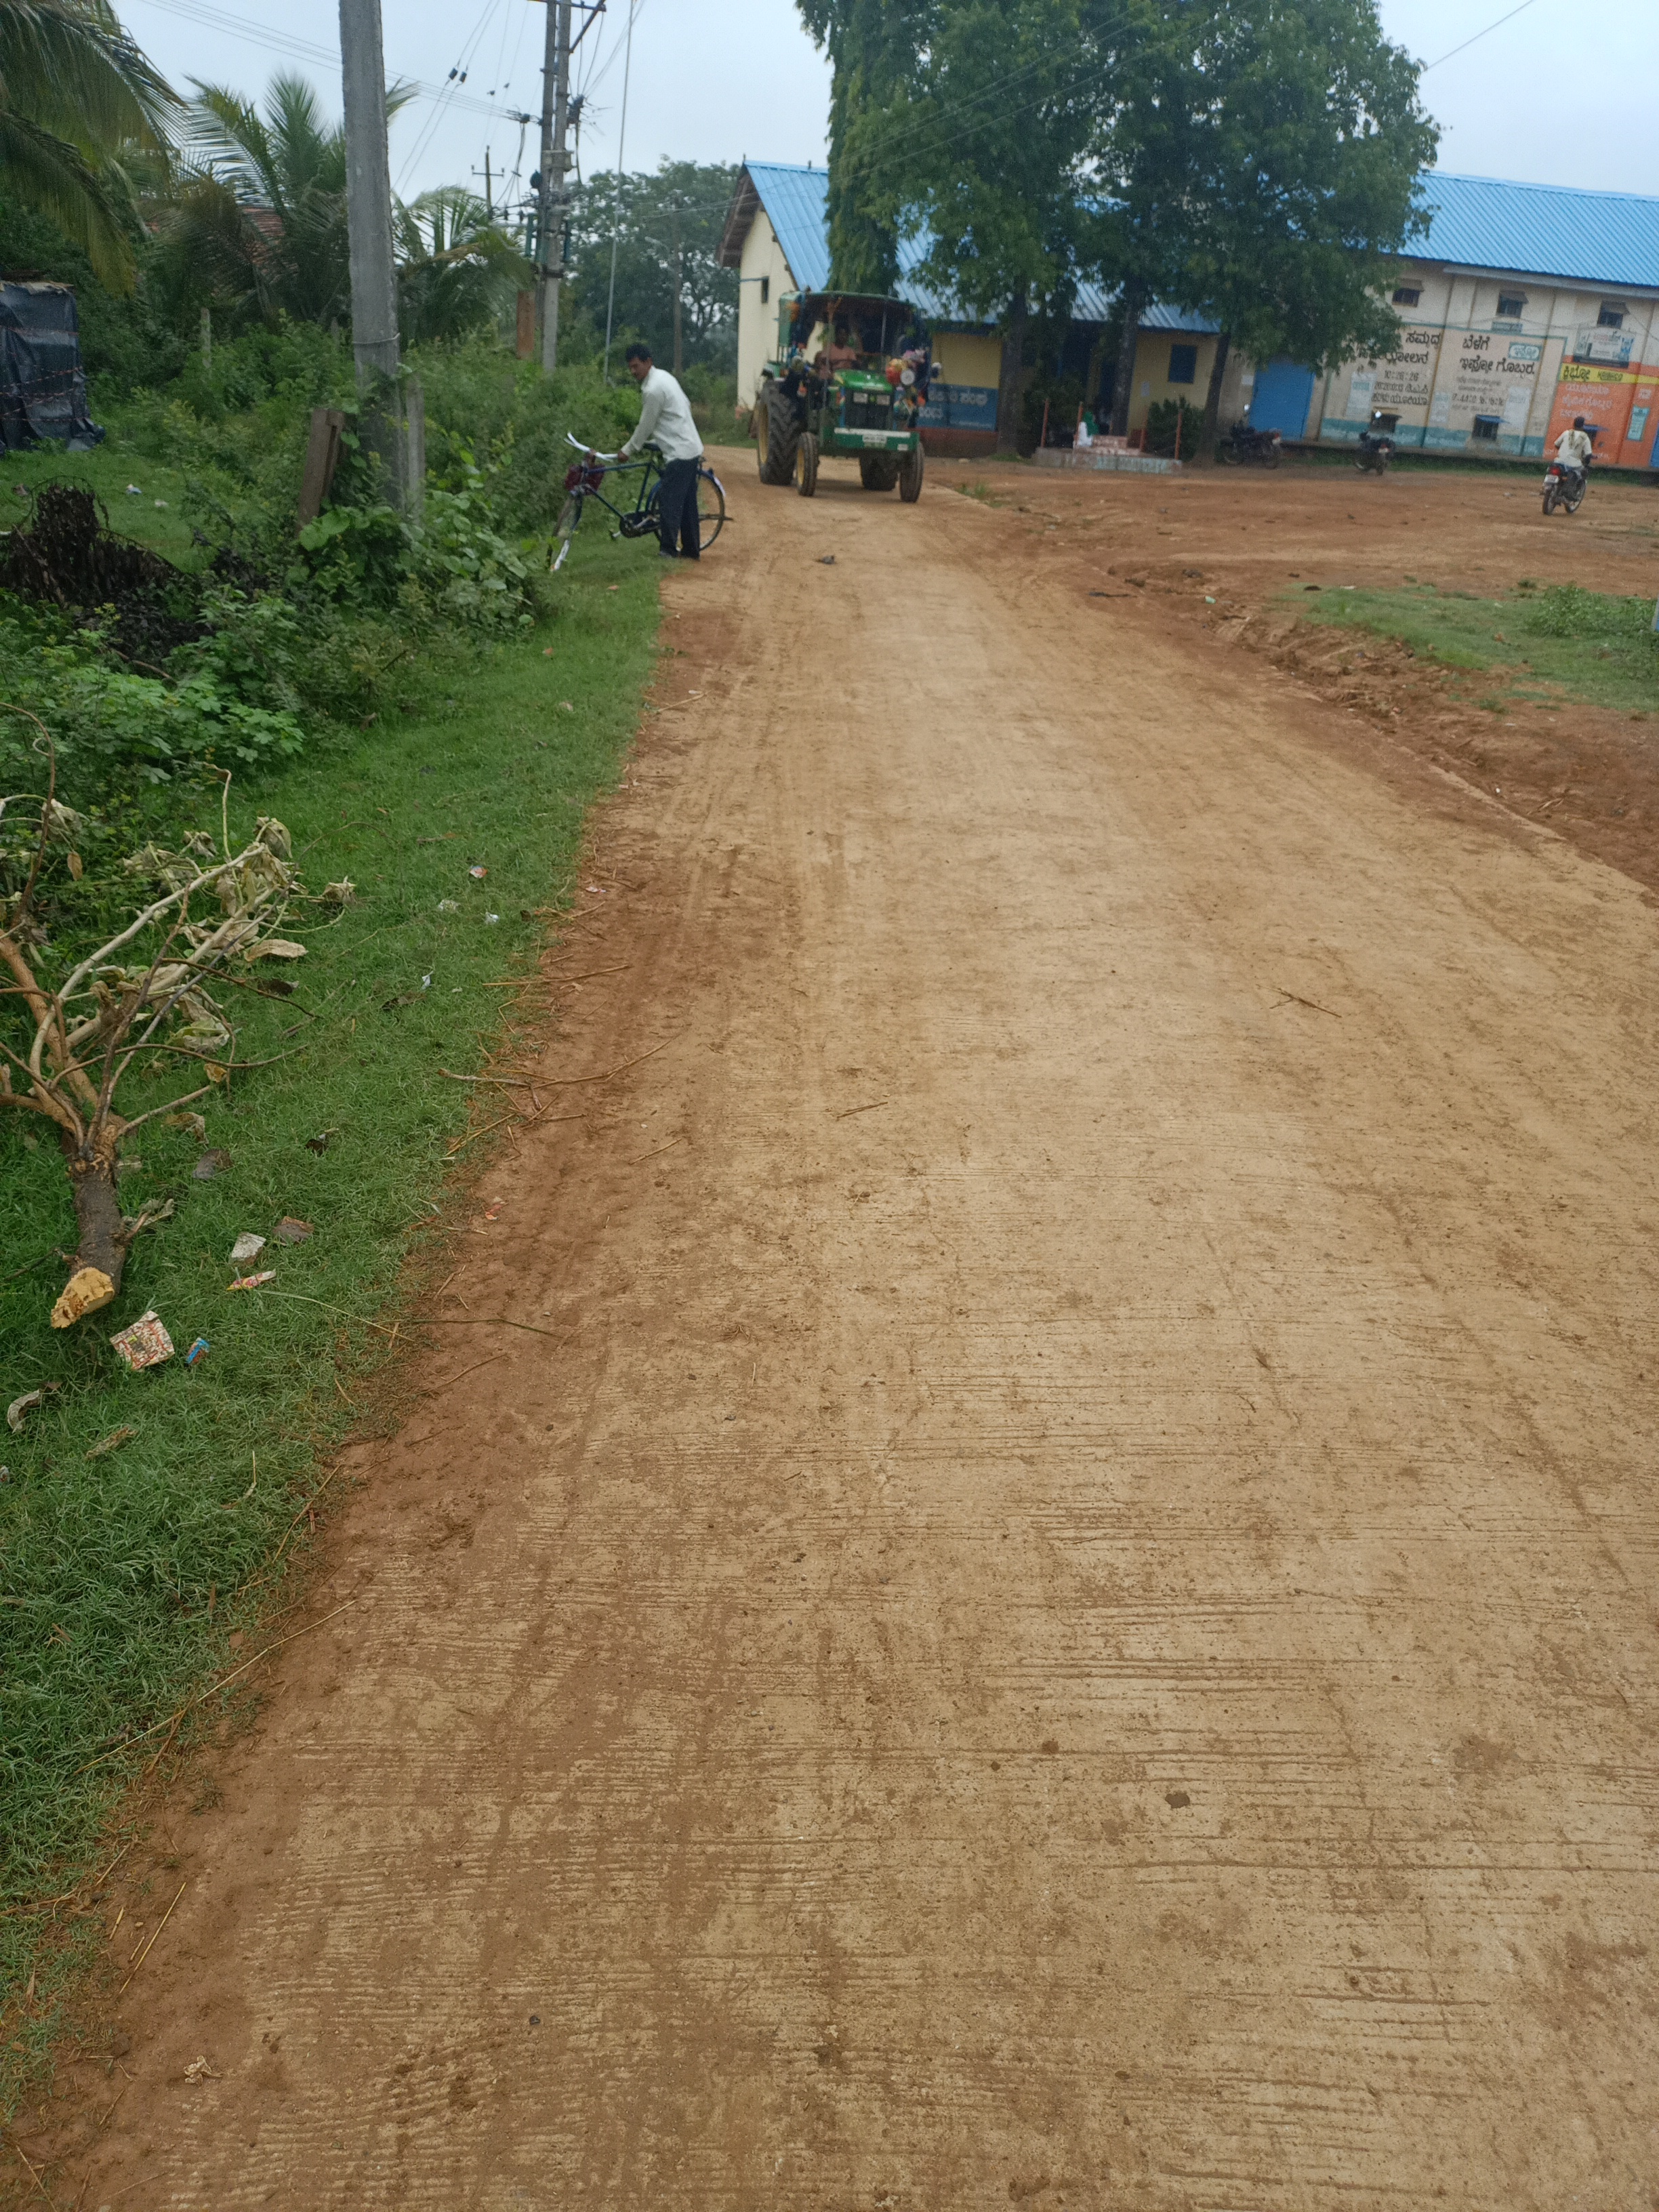tractor: (748, 284, 943, 505)
